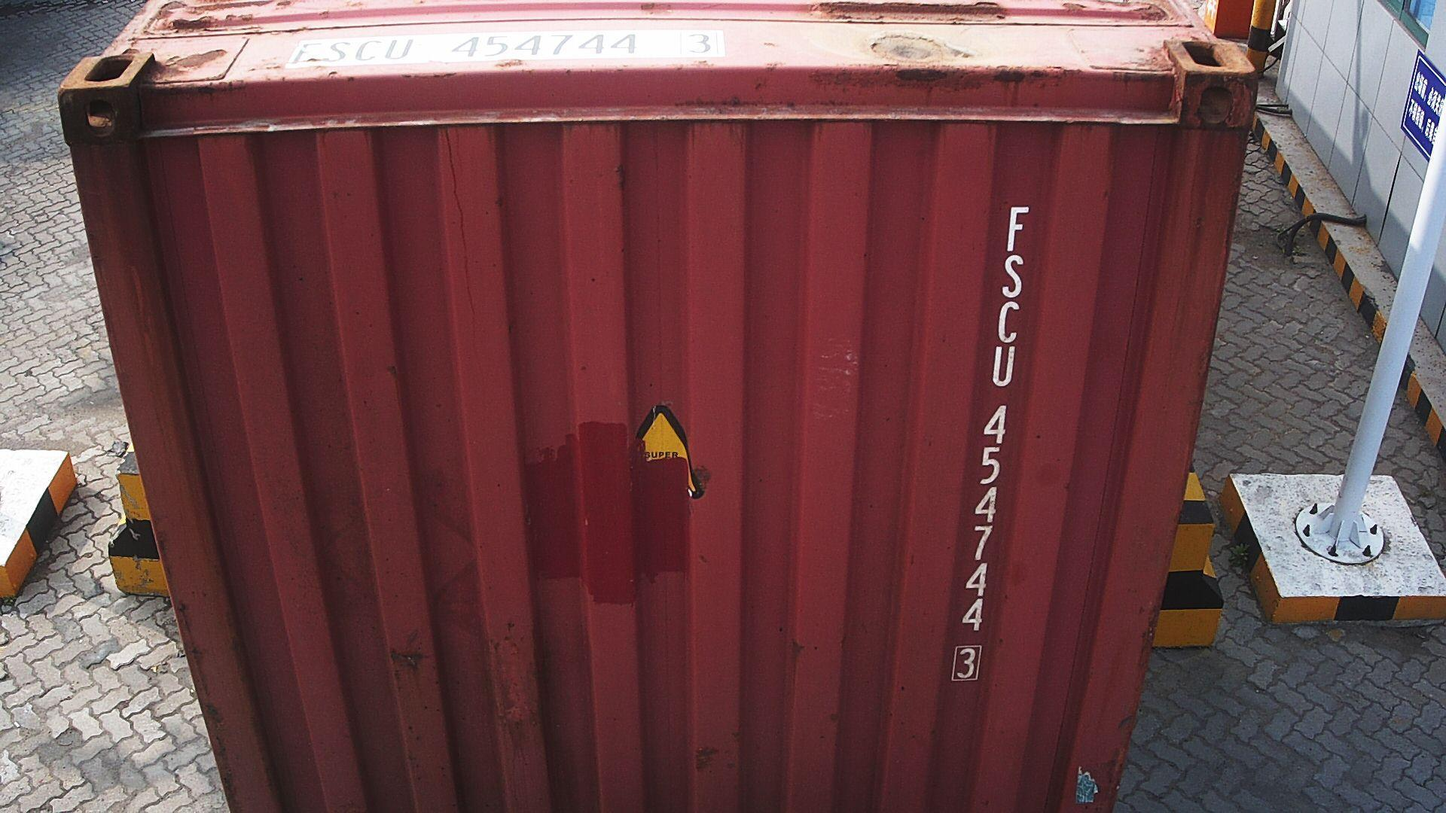container-numbers: (950, 199, 1032, 687), (267, 25, 725, 67)
